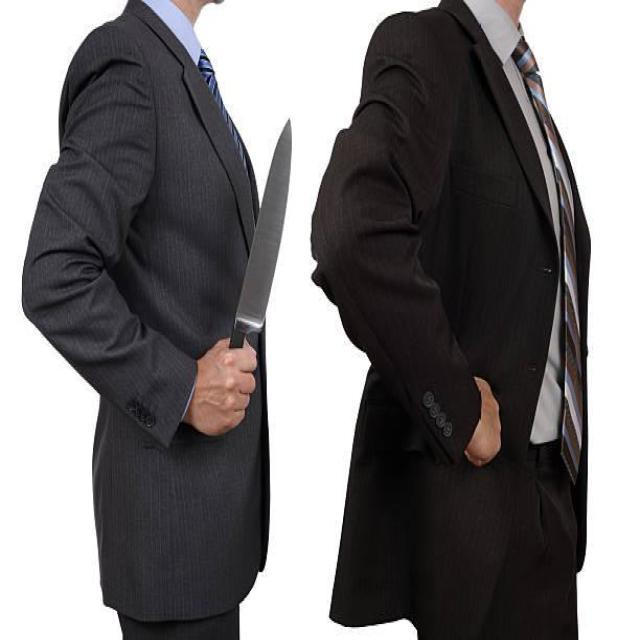faca: (205, 91, 308, 452)
